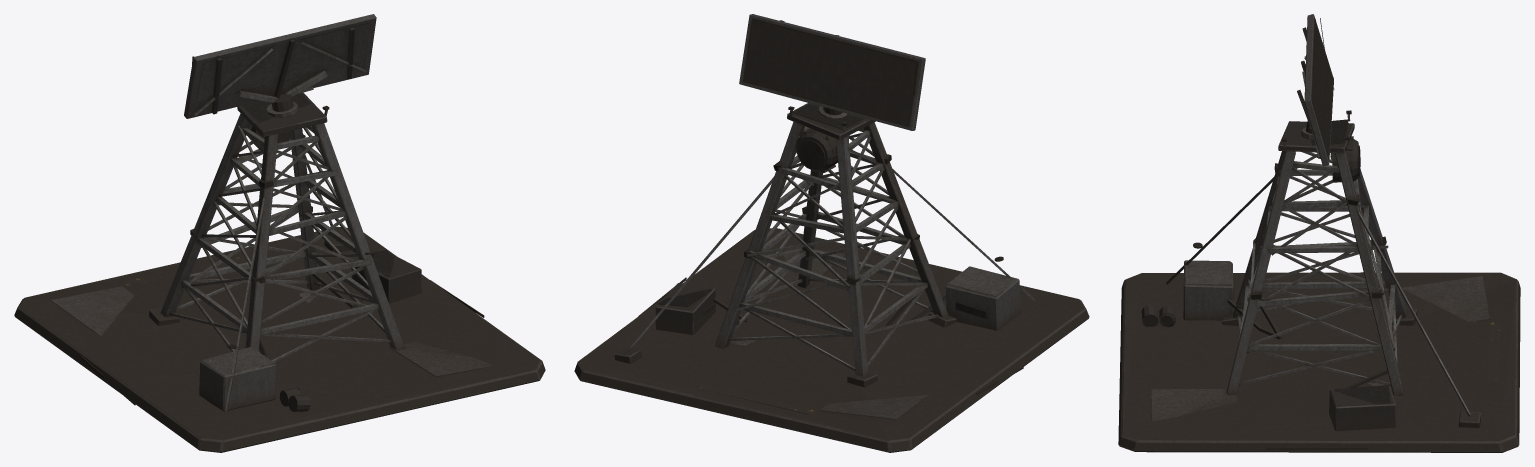
File: chs_allseer_wreck.fbx
3 views of the same model, side by side, from view 1: azimuth 30°, elevation 25°; view 2: azimuth 150°, elevation 25°; view 3: azimuth 270°, elevation 25° (orthographic). The views are drawn at different scales.
Visible parts, largest first — view 1: base_bar, radar_bar; view 2: base_bar, radar_bar; view 3: base_bar, radar_bar.
Part boxes in pixels (x1=…): base_bar: x1=14, y1=92, x2=545, y2=452; radar_bar: x1=184, y1=14, x2=376, y2=118; base_bar: x1=574, y1=103, x2=1089, y2=452; radar_bar: x1=739, y1=14, x2=925, y2=130; base_bar: x1=1118, y1=110, x2=1520, y2=452; radar_bar: x1=1297, y1=14, x2=1334, y2=166.
Size of the model in its own units: 2393 by 2237 by 2386.
2 materials, 2 textured.
